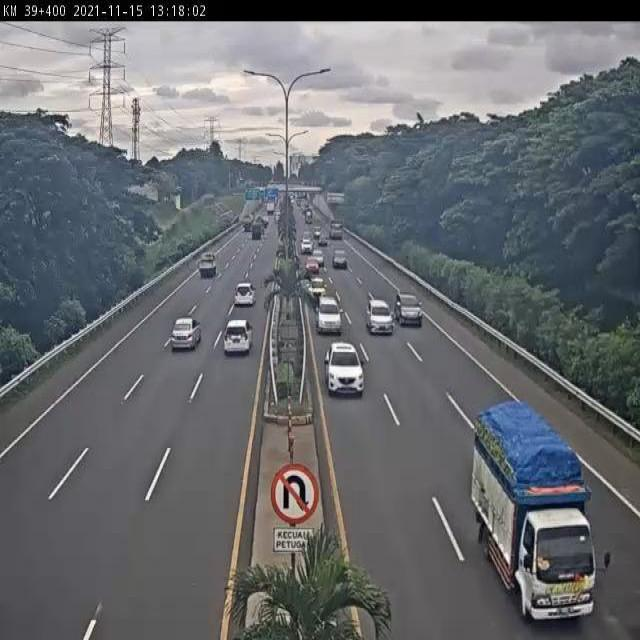car: (325, 338, 365, 398), (364, 294, 396, 334), (222, 316, 253, 355), (392, 290, 424, 326), (316, 295, 344, 336), (170, 317, 202, 352), (231, 282, 254, 310), (308, 275, 328, 301)
truck-m-: (471, 396, 594, 621)
truck-s-: (196, 251, 219, 280)
